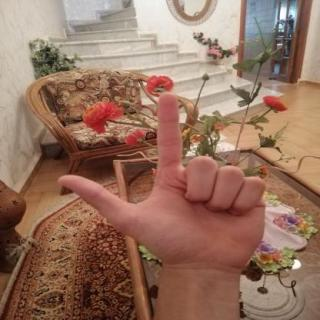LAAM: (43, 81, 281, 278)
